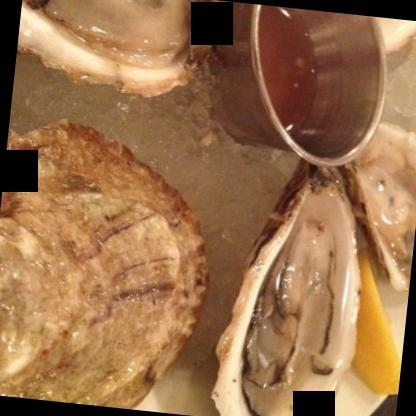oyster: (200, 158, 380, 415), (13, 0, 233, 100), (332, 121, 415, 298)
